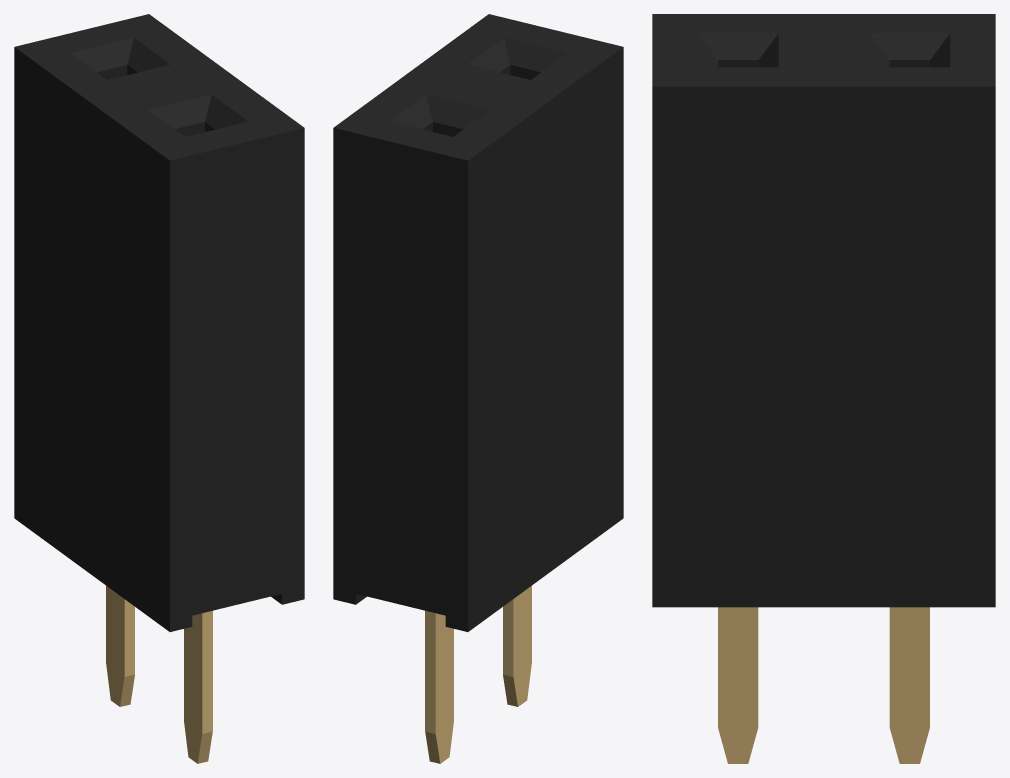
The model's file is kc-pinsocket_1x02_p2.54mm_vertical.glb.
3 renders of one model, left to right at view 1: azimuth 30°, elevation 25°; view 2: azimuth 150°, elevation 25°; view 3: azimuth 270°, elevation 25°, orthographic. The views are drawn at different scales.
Parts seen in each view (by area): view 1: 0_0_0_0, 0.75_0.5_0.25_0.9; view 2: 0_0_0_0, 0.75_0.5_0.25_0.9; view 3: 0_0_0_0, 0.75_0.5_0.25_0.9.
Boxes of the visible parts, left/top/right/bottom form: 0_0_0_0: left=14, top=14, right=304, bottom=631; 0.75_0.5_0.25_0.9: left=106, top=586, right=212, bottom=763; 0_0_0_0: left=333, top=14, right=623, bottom=631; 0.75_0.5_0.25_0.9: left=425, top=586, right=531, bottom=763; 0_0_0_0: left=652, top=14, right=995, bottom=607; 0.75_0.5_0.25_0.9: left=718, top=607, right=929, bottom=763.
Bounding box in the file's own units: 0.254 × 1.16 × 0.508.
